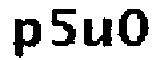0: (118, 6, 150, 49)
5: (47, 7, 78, 50)
p: (9, 16, 42, 59)
u: (81, 16, 114, 51)
